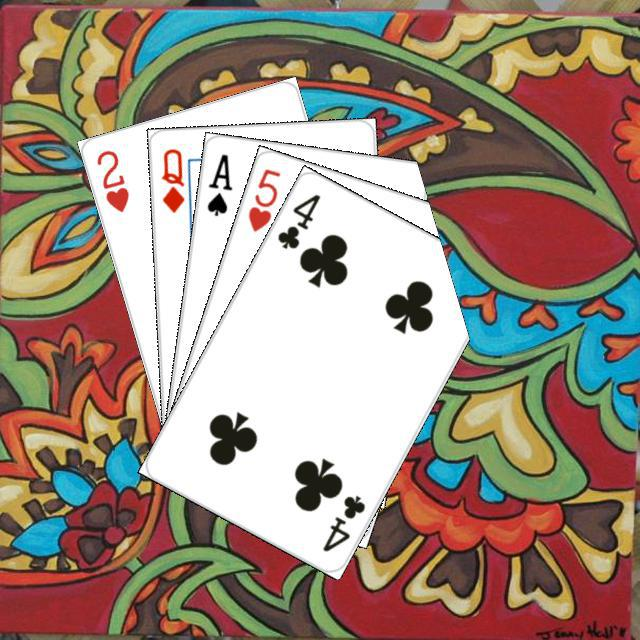2h: (91, 145, 131, 214)
4c: (317, 490, 367, 554), (272, 189, 322, 251)
5h: (243, 163, 282, 234)
As: (202, 149, 234, 218)
Qd: (157, 144, 186, 214)
